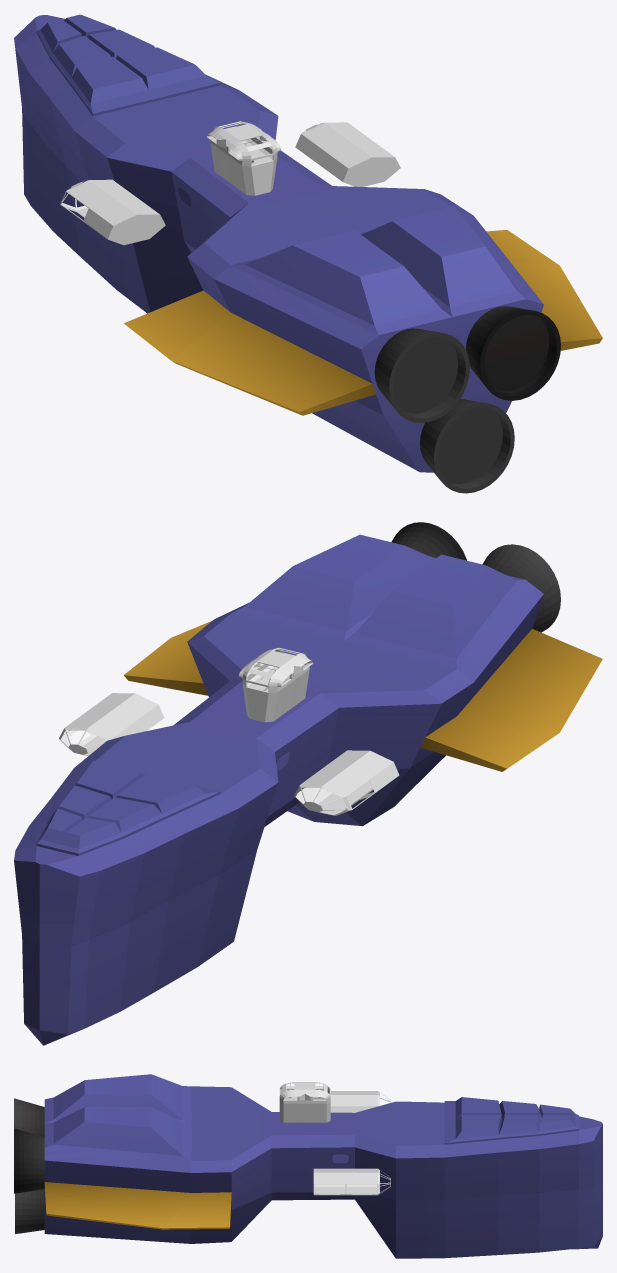
The model's file is PlayerShipHull.fbx.
3 renders of one model, top to bottom at view 1: azimuth 30°, elevation 25°; view 2: azimuth 150°, elevation 25°; view 3: azimuth 270°, elevation 25°, orthographic. The views are drawn at different scales.
Visible parts, largest first — view 1: Exterior Shell, Wing2, Engine3, Engine1, Engine2, Wing1, NacelleRight, NacelleLeft, BridgeBackward, BridgeForward; view 2: Exterior Shell, Wing2, NacelleLeft, NacelleRight, Wing1, Engine3, BridgeForward, Engine1, BridgeBackward; view 3: Exterior Shell, Wing1, NacelleRight, Engine1, Engine2, NacelleLeft, BridgeBackward, BridgeForward, Engine3.
Boxes of the visible parts, box(x1,y1,x2,y2) form: Exterior Shell: box(14, 14, 543, 472); Wing2: box(124, 290, 376, 415); Engine3: box(374, 328, 469, 422); Engine1: box(465, 306, 560, 400); Engine2: box(420, 399, 514, 493); Wing1: box(486, 230, 602, 350); NacelleRight: box(295, 122, 400, 186); NacelleLeft: box(60, 179, 165, 245); BridgeBackward: box(226, 129, 281, 195); BridgeForward: box(206, 121, 261, 182); Exterior Shell: box(14, 534, 543, 1045); Wing2: box(420, 628, 602, 771); NacelleLeft: box(294, 750, 399, 815); NacelleRight: box(59, 693, 164, 755); Wing1: box(123, 621, 211, 695); Engine3: box(482, 544, 560, 632); BridgeForward: box(238, 656, 293, 722); Engine1: box(391, 522, 466, 560); BridgeBackward: box(258, 647, 313, 709); Exterior Shell: box(44, 1074, 602, 1258); Wing1: box(44, 1182, 231, 1229); NacelleRight: box(313, 1168, 390, 1195); Engine1: box(14, 1128, 44, 1193); Engine2: box(15, 1189, 44, 1233); NacelleLeft: box(330, 1091, 390, 1112); BridgeBackward: box(279, 1082, 304, 1122); BridgeForward: box(305, 1082, 330, 1122); Engine3: box(14, 1098, 44, 1136).
Bounding box in the file's own units: 6996 × 4093 × 13560.
